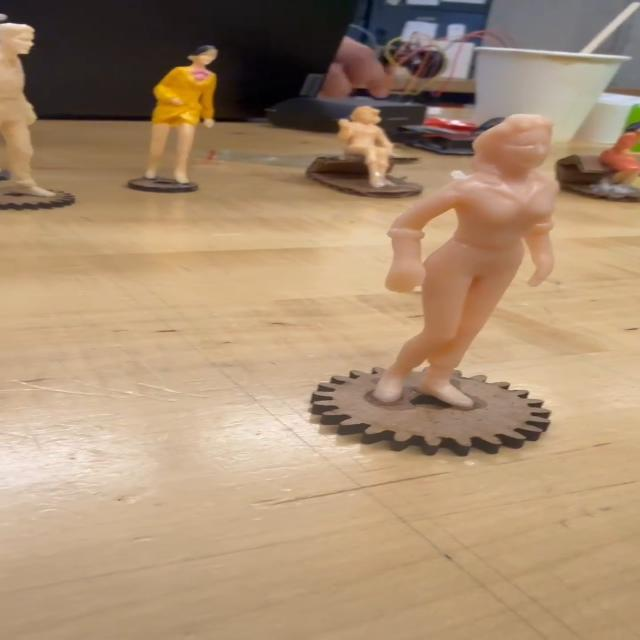Unauthorized: (375, 96, 589, 409)
